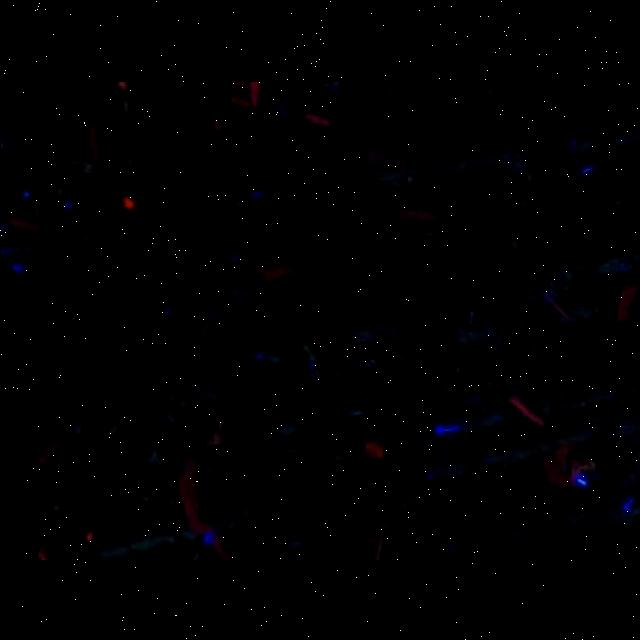Fragment: (232, 81, 260, 108)
